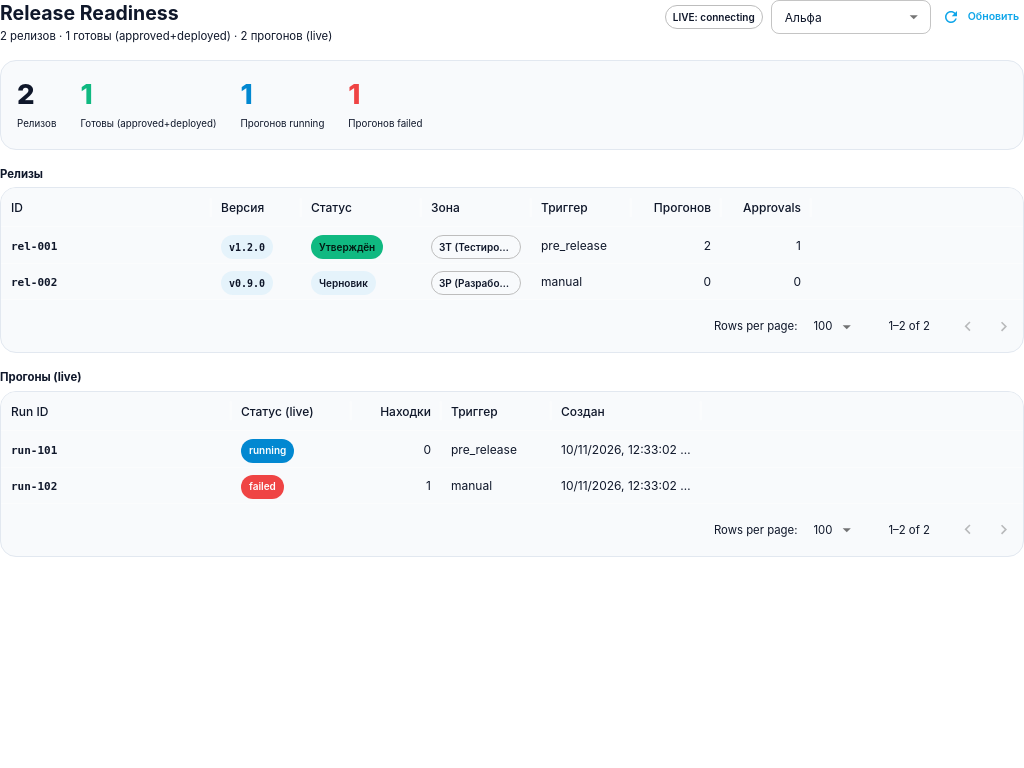
COS-098: ReleaseReadiness › run detail: evidence chain + честный degraded для логов (COS-097)
Expected: the element with test id "run-status-run-101" is shown, left=241, top=439, right=294, bottom=463
Клик по строке прогона → run-detail
Click the row with test id "run-status-run-101": (34, 451) left=11, top=439, right=699, bottom=463
(page scrolled)
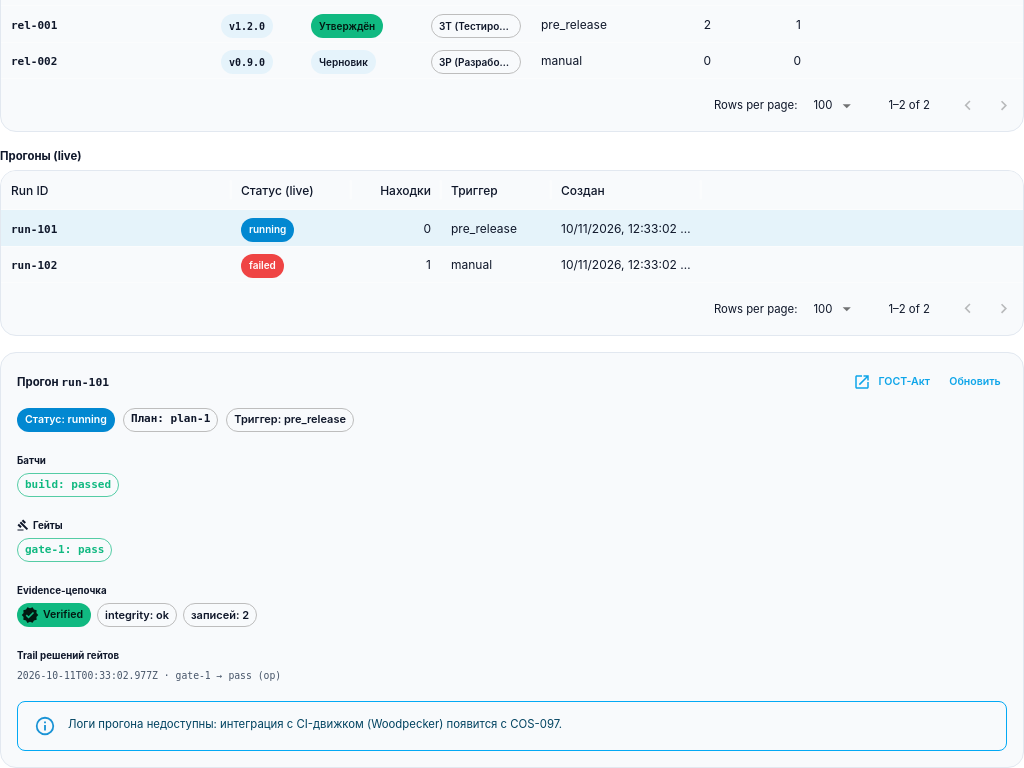
Expected: the element with test id "run-detail" is shown, left=0, top=352, right=1023, bottom=767
Expected: the element with test id "evidence-verified" reads "Verified", left=43, top=608, right=83, bottom=621
Expected: the element with test id "evidence-integrity" shows "ok", left=105, top=608, right=169, bottom=622
